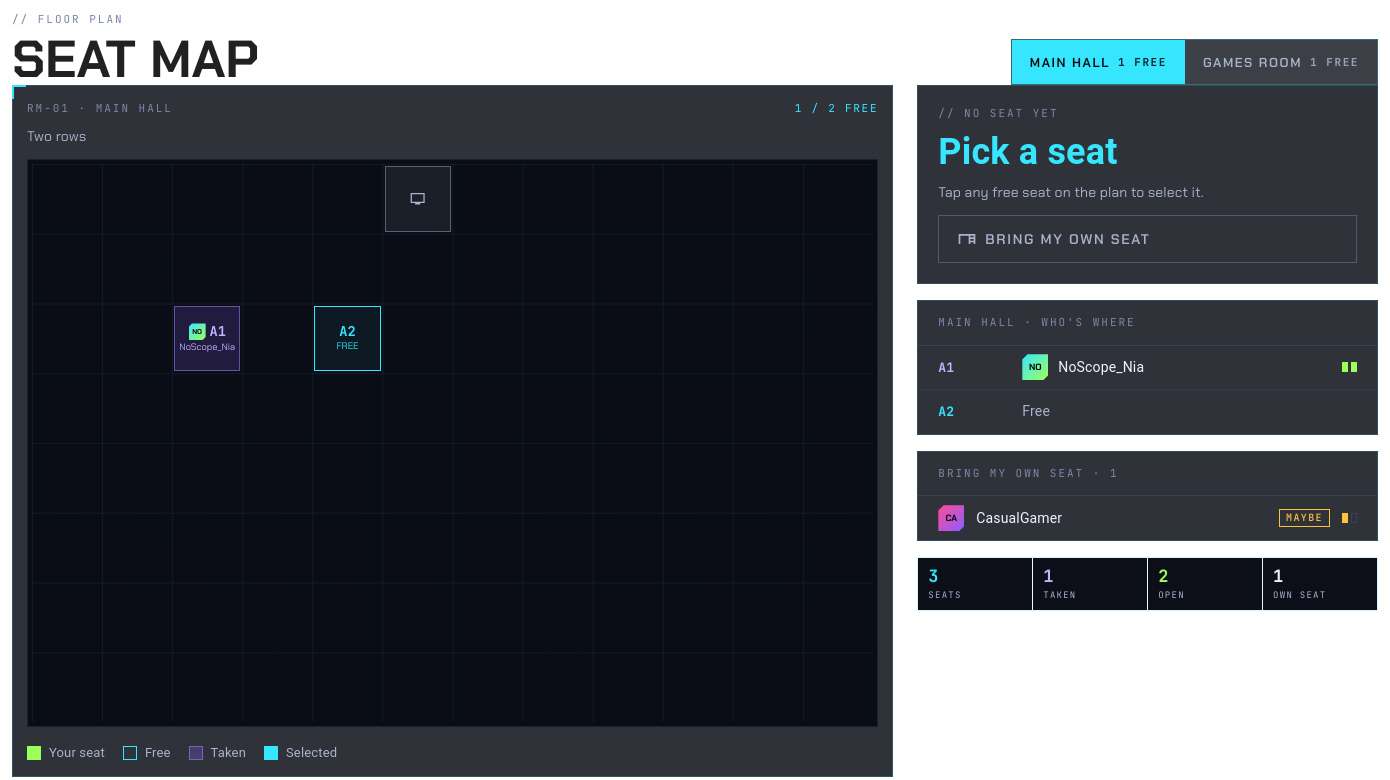
Test: EventSeatMap › claims a selected seat
Click the button with aria-label "A2, free".
click(347, 339)  # box x1=314 y1=306 x2=380 y2=371
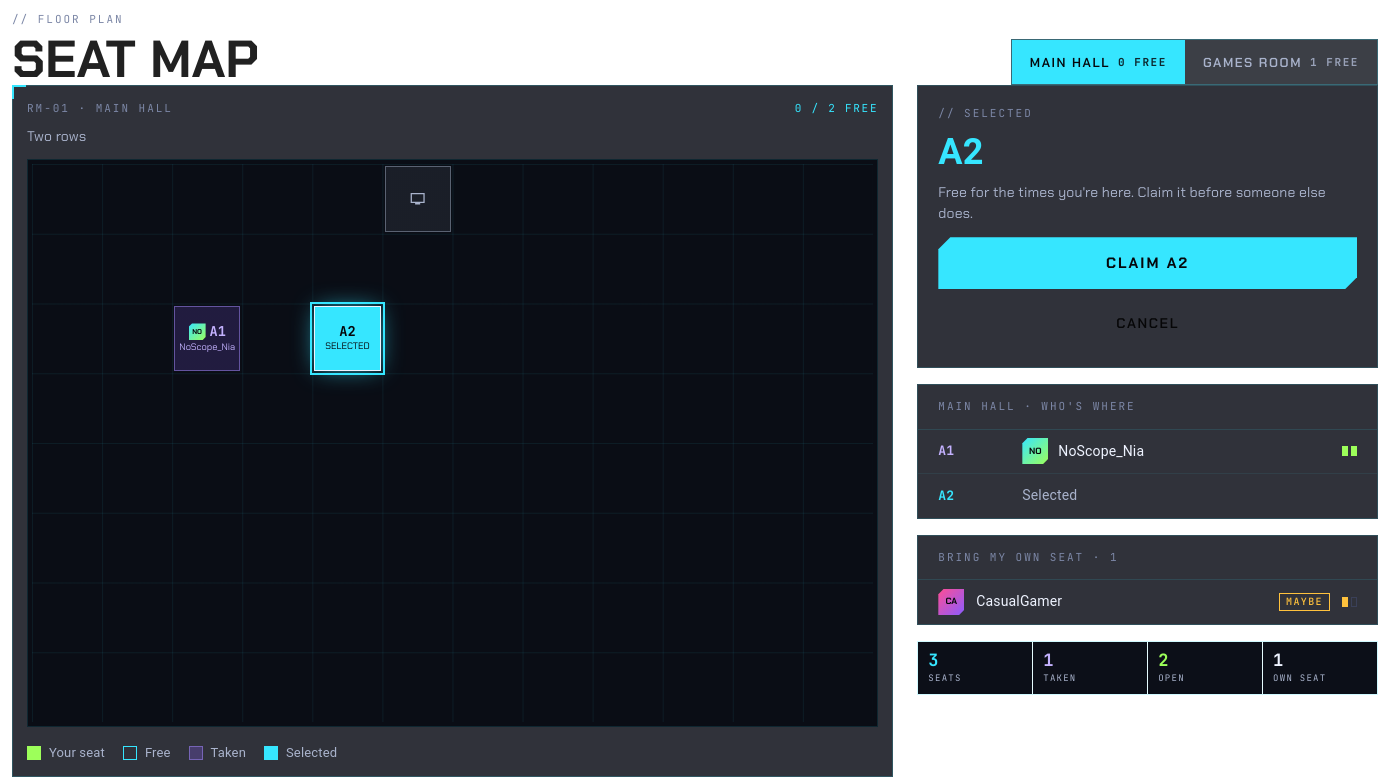
Now the button with aria-label "A2, selected" is pressed, box x1=314 y1=306 x2=380 y2=371
Click the button "Claim A2".
click(1148, 263)  # box x1=938 y1=237 x2=1357 y2=289
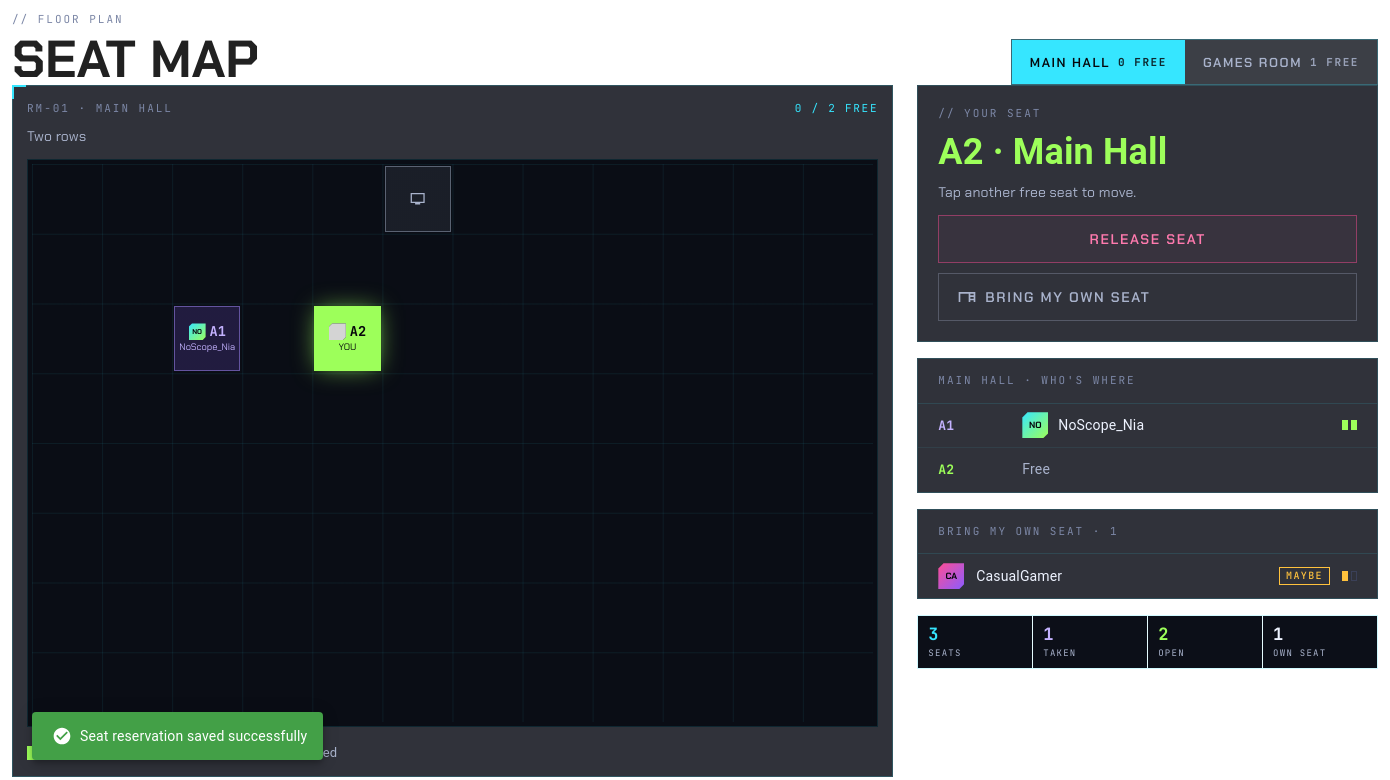
Now the text "A2 · Main Hall" is shown, box x1=938 y1=131 x2=1167 y2=173
Now the button with aria-label "A2, your seat" is shown, box x1=314 y1=306 x2=380 y2=371
Now the text "Seat reservation saved successfully" is shown, box x1=52 y1=726 x2=307 y2=746
